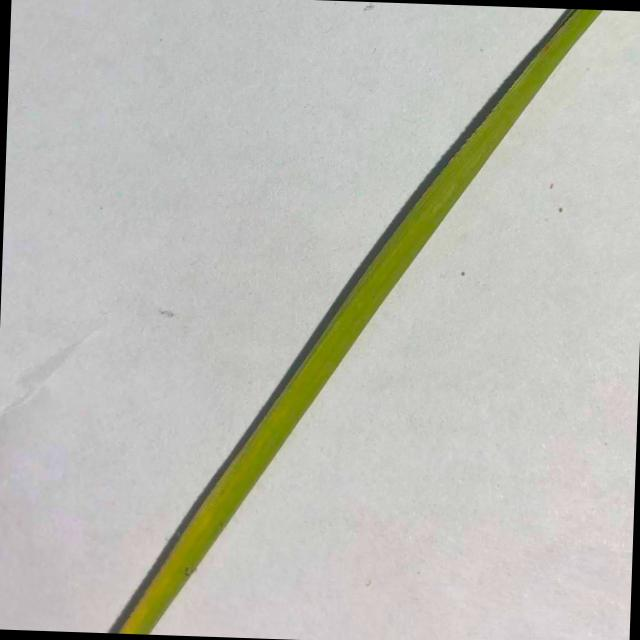Rice_Healthy: (109, 8, 602, 634)
